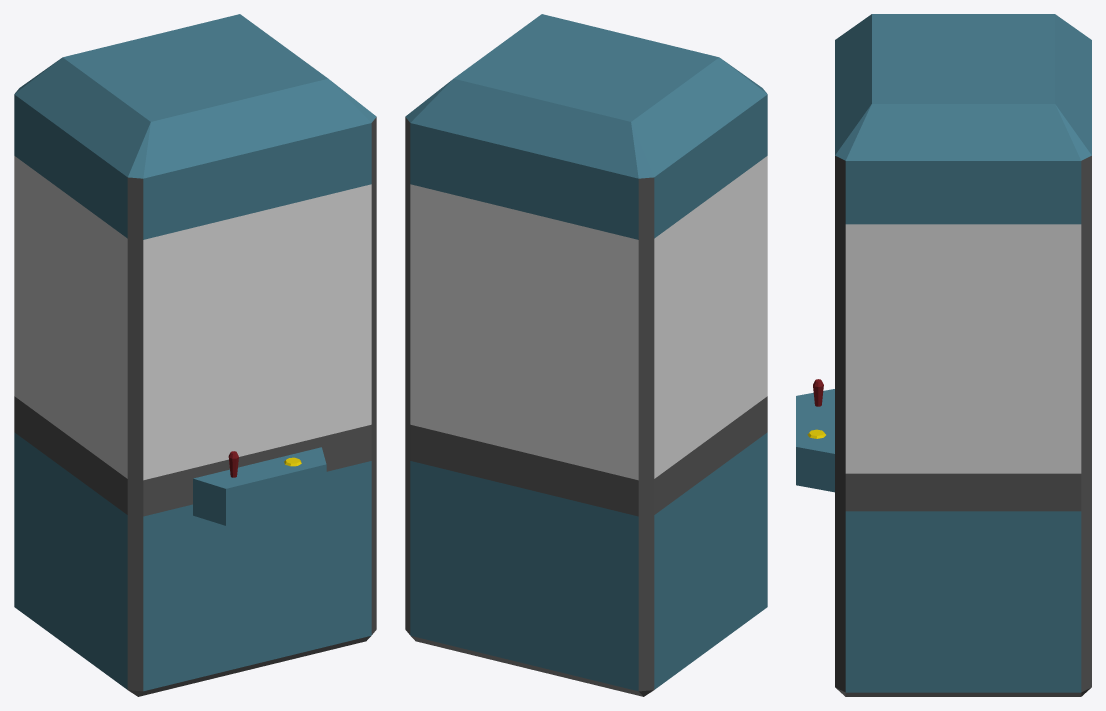
Rendered from CraneMachine.fbx.
3 views of the same model, side by side, from view 1: azimuth 30°, elevation 25°; view 2: azimuth 150°, elevation 25°; view 3: azimuth 270°, elevation 25° (orthographic). The views are drawn at different scales.
Parts seen in each view (by area): view 1: Cube, Glass, Cube.002, Cube.001; view 2: Cube, Glass, Cube.002; view 3: Cube, Glass, Cube.002, Cube.001.
Part boxes in pixels (left/top/right/bottom): Cube: left=14, top=14, right=376, bottom=696; Glass: left=14, top=156, right=371, bottom=480; Cube.002: left=14, top=14, right=376, bottom=696; Cube.001: left=193, top=447, right=326, bottom=525; Cube: left=405, top=14, right=767, bottom=696; Glass: left=410, top=156, right=767, bottom=480; Cube.002: left=405, top=14, right=767, bottom=696; Cube: left=835, top=14, right=1091, bottom=696; Glass: left=845, top=224, right=1081, bottom=473; Cube.002: left=835, top=14, right=1091, bottom=696; Cube.001: left=796, top=389, right=834, bottom=492.
Bounding box in the file's own units: 2.78 × 5.98 × 2.76.
